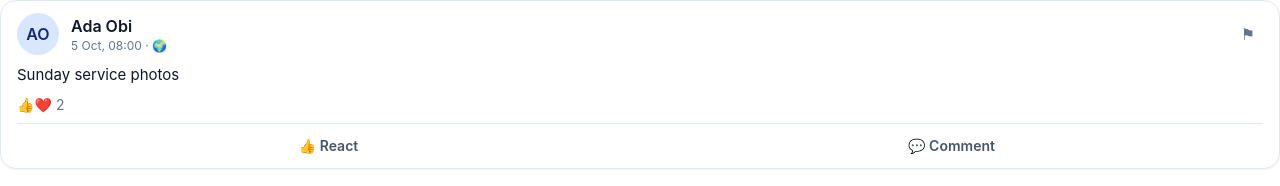
Test case: Who reacted to a post › my like adds to the others’ (the server’s full count), and new reactions from others appear by themselves
This screenshot has width=1280, height=186.
Expected: the button "👍❤️ 2" is shown, [17,95,64,115]
Click the button "👍 React". click: [328, 146]
box: [17,128,640,164]
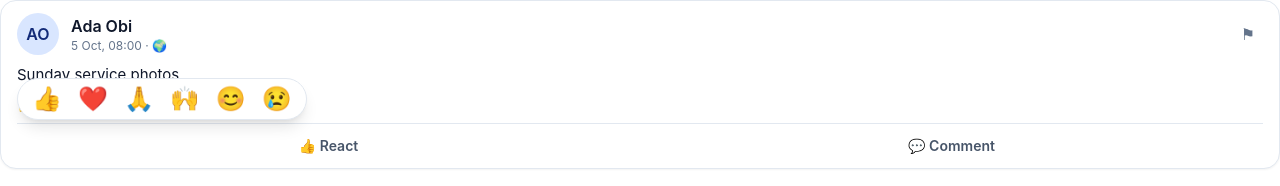
Click the menu item named "Like". click: [47, 99]
box: [26,83,68,115]
Wait 31000 ms
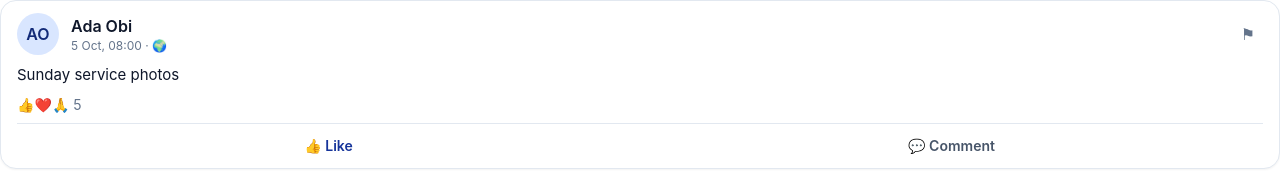
Now the button "👍❤️🙏 5" is shown, box [17,95,82,115]
